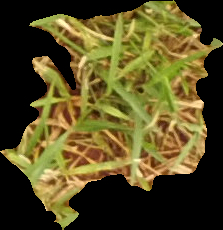grass: (1, 1, 222, 228)
